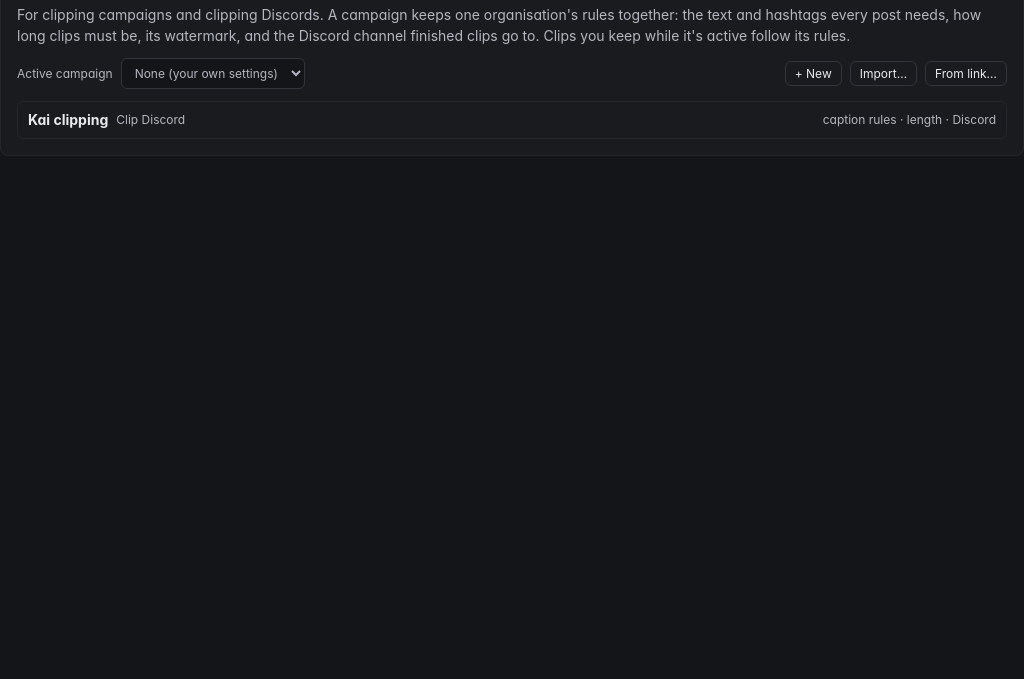
Test case: Campaigns › copies your watermark into the campaign, kept on Save
Later steps or results of the test are not shown.
Click the button "Kai clipping Clip Discord caption rules · length · Discord" at coordinates (68, 119), box [17, 101, 1007, 139]
(page scrolled)
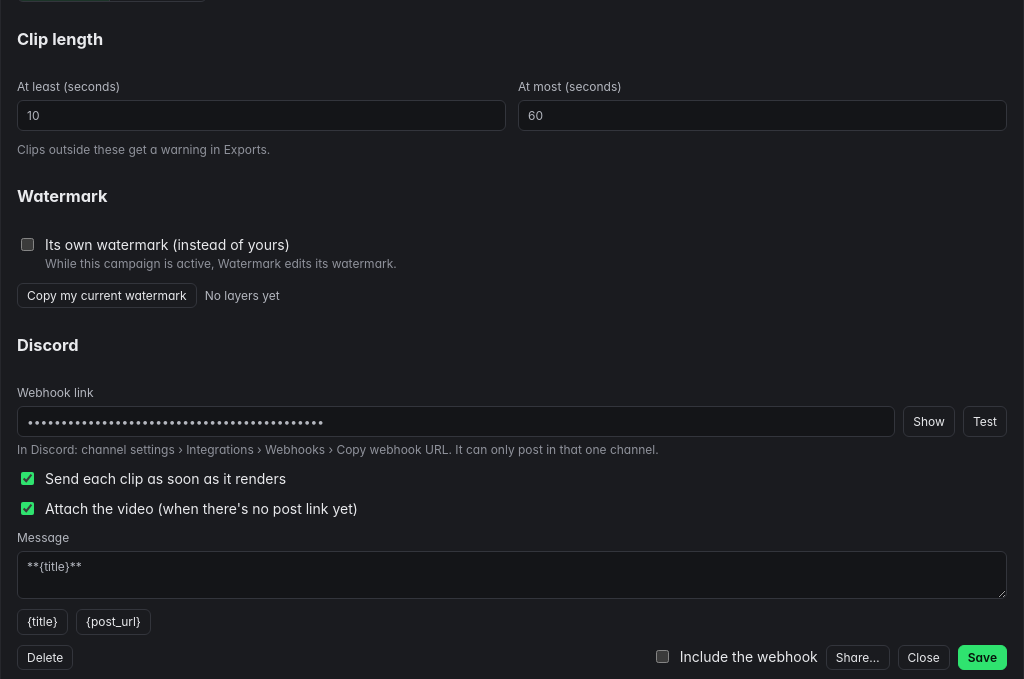
Click the button "Copy my current watermark" at coordinates (107, 295), box [17, 283, 197, 308]
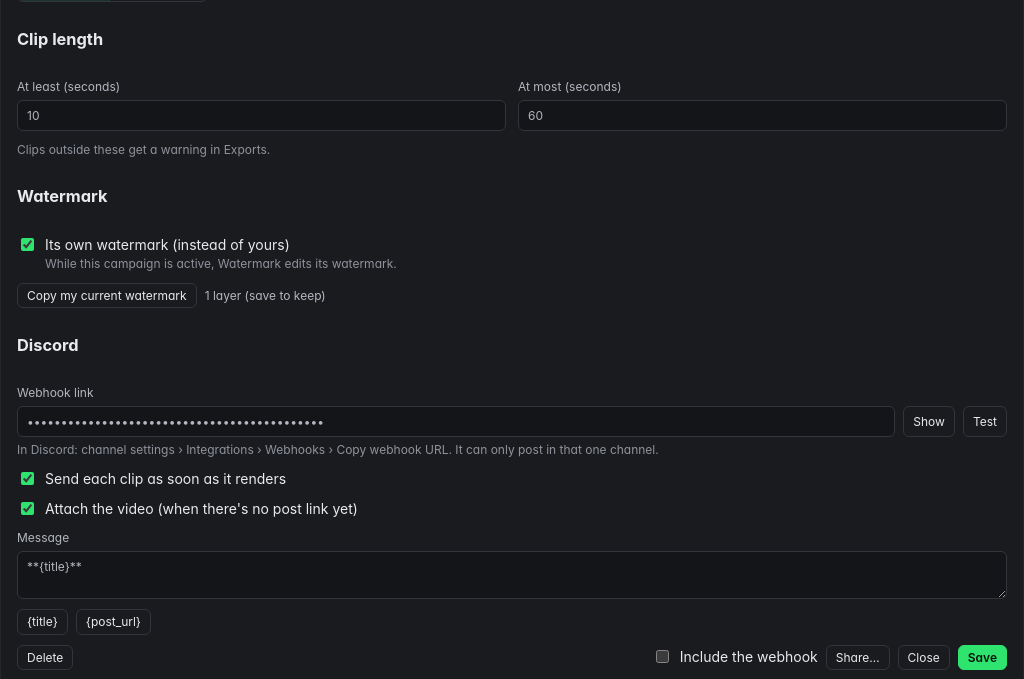
Check: the text with test id "cp-wm-info" reads "1 layer (save to keep)", box [205, 288, 326, 303]
Check: the checkbox labelled "Its own watermark" is checked, box [21, 238, 34, 251]
